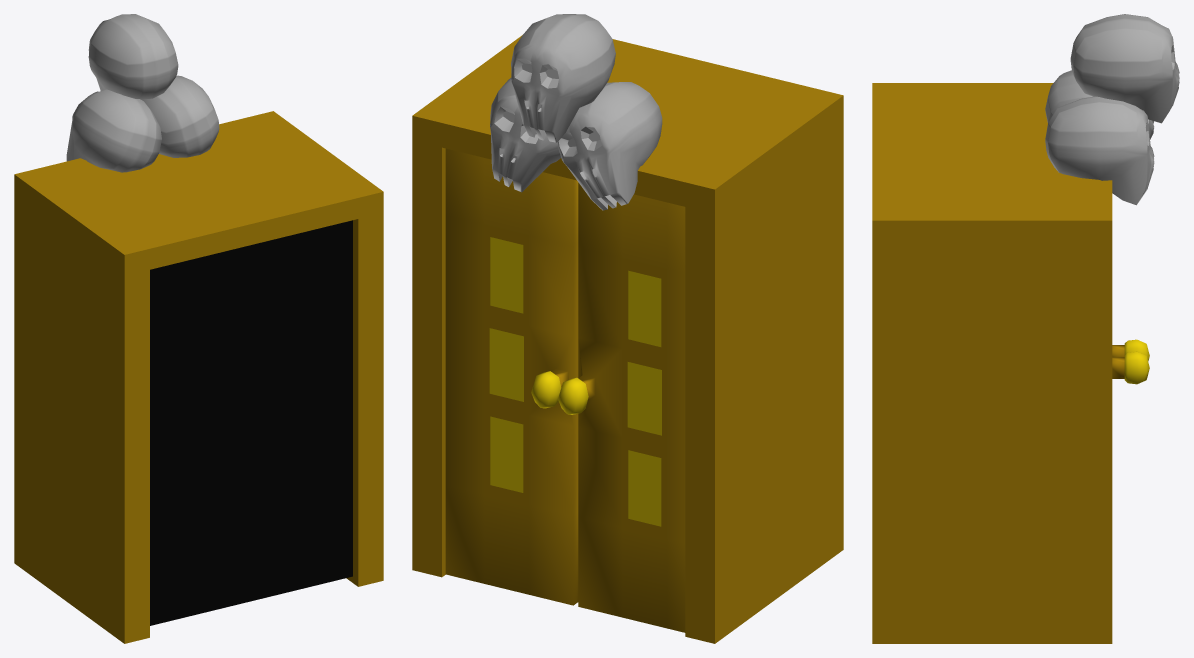
Rendered from Boss_Door.fbx.
3 views of the same model, side by side, from view 1: azimuth 30°, elevation 25°; view 2: azimuth 150°, elevation 25°; view 3: azimuth 270°, elevation 25° (orthographic). The views are drawn at different scales.
Parts seen in each view (by area): view 1: pCube1, pCube6, Skull:pCube2; view 2: pCube1, pCube4, pCube3, Skull:pCube2; view 3: pCube1, Skull:pCube2, pCube4, pCube3.
Boxes of the visible parts, left/top/right/bottom form: pCube1: left=14, top=111, right=383, bottom=643; pCube6: left=150, top=220, right=352, bottom=625; Skull:pCube2: left=66, top=14, right=219, bottom=172; pCube1: left=412, top=35, right=843, bottom=643; pCube4: left=445, top=148, right=578, bottom=605; pCube3: left=558, top=182, right=685, bottom=632; Skull:pCube2: left=490, top=14, right=662, bottom=210; pCube1: left=872, top=83, right=1112, bottom=643; Skull:pCube2: left=1045, top=14, right=1179, bottom=205; pCube4: left=1112, top=352, right=1149, bottom=384; pCube3: left=1112, top=339, right=1149, bottom=361.
Bounding box in the file's own units: 12.9 × 24.19 × 12.17.
